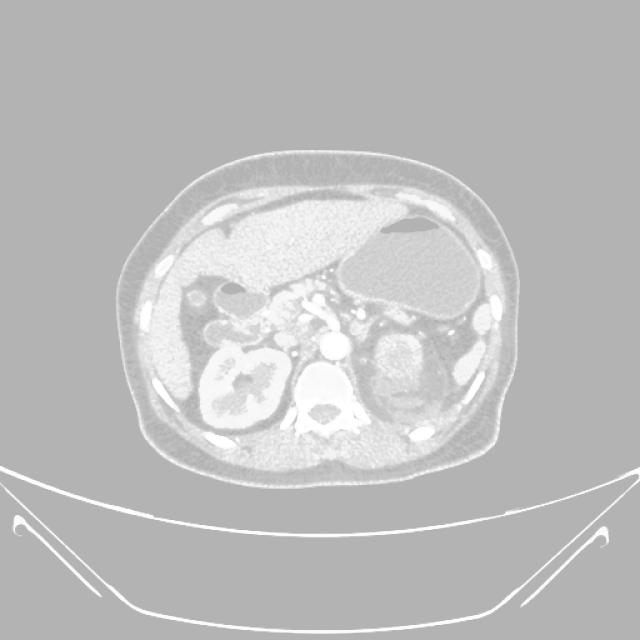TUMOR: (148, 220, 517, 379)
